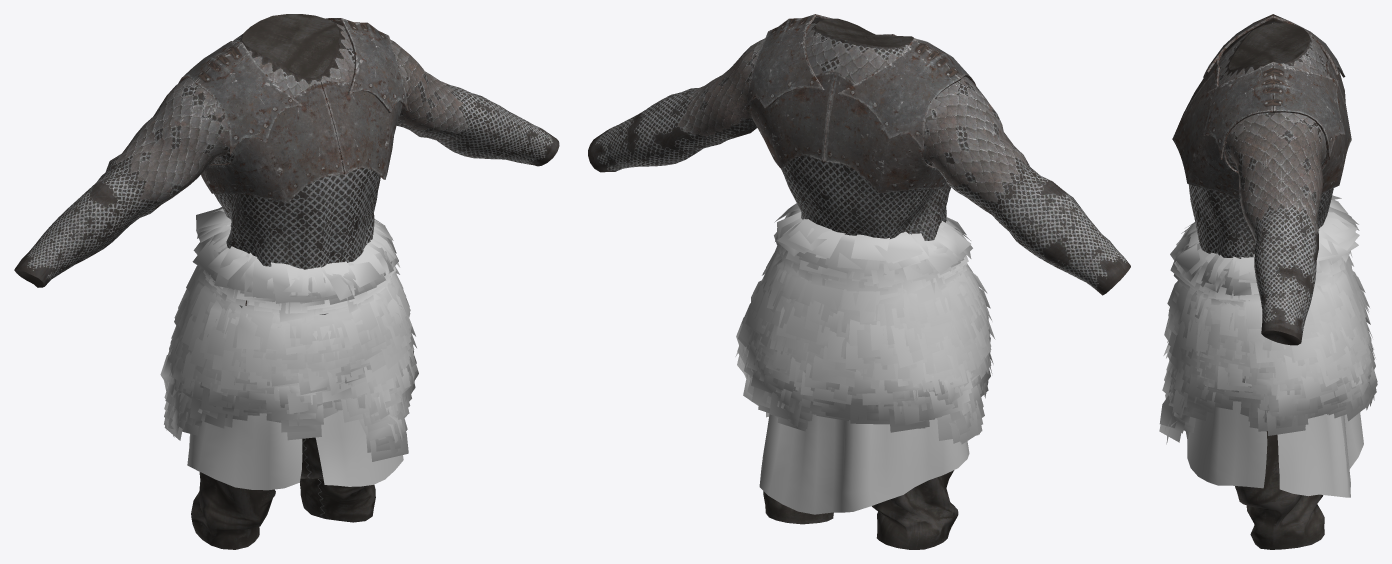
File: sk_gb_uruk_chest_med_e.fbx
3 views of the same model, side by side, from view 1: azimuth 30°, elevation 25°; view 2: azimuth 150°, elevation 25°; view 3: azimuth 270°, elevation 25° (orthographic). The views are drawn at different scales.
Parts seen in each view (by area): view 1: sk_gb_uruk_chest_med_e.base.0, sk_gb_uruk_chest_med_e.skirt.2, sk_gb_uruk_chest_med_e.base.1, sk_gb_uruk_chest_med_e.skirt.1; view 2: sk_gb_uruk_chest_med_e.skirt.2, sk_gb_uruk_chest_med_e.base.0, sk_gb_uruk_chest_med_e.base.1, sk_gb_uruk_chest_med_e.skirt.1; view 3: sk_gb_uruk_chest_med_e.skirt.2, sk_gb_uruk_chest_med_e.base.0, sk_gb_uruk_chest_med_e.base.1, sk_gb_uruk_chest_med_e.skirt.1.
Part boxes in pixels (x1=…): sk_gb_uruk_chest_med_e.base.0: x1=14, y1=14, x2=559, y2=549; sk_gb_uruk_chest_med_e.skirt.2: x1=160, y1=207, x2=418, y2=461; sk_gb_uruk_chest_med_e.base.1: x1=178, y1=18, x2=408, y2=203; sk_gb_uruk_chest_med_e.skirt.1: x1=187, y1=410, x2=403, y2=490; sk_gb_uruk_chest_med_e.skirt.2: x1=735, y1=203, x2=995, y2=444; sk_gb_uruk_chest_med_e.base.0: x1=588, y1=18, x2=1130, y2=549; sk_gb_uruk_chest_med_e.base.1: x1=746, y1=14, x2=976, y2=193; sk_gb_uruk_chest_med_e.skirt.1: x1=759, y1=412, x2=969, y2=514; sk_gb_uruk_chest_med_e.skirt.2: x1=1159, y1=195, x2=1377, y2=444; sk_gb_uruk_chest_med_e.base.0: x1=1188, y1=23, x2=1333, y2=549; sk_gb_uruk_chest_med_e.base.1: x1=1172, y1=14, x2=1351, y2=200; sk_gb_uruk_chest_med_e.skirt.1: x1=1185, y1=401, x2=1363, y2=497.
Bounding box in the file's own units: 1.35 × 0.4991 × 1.2.
